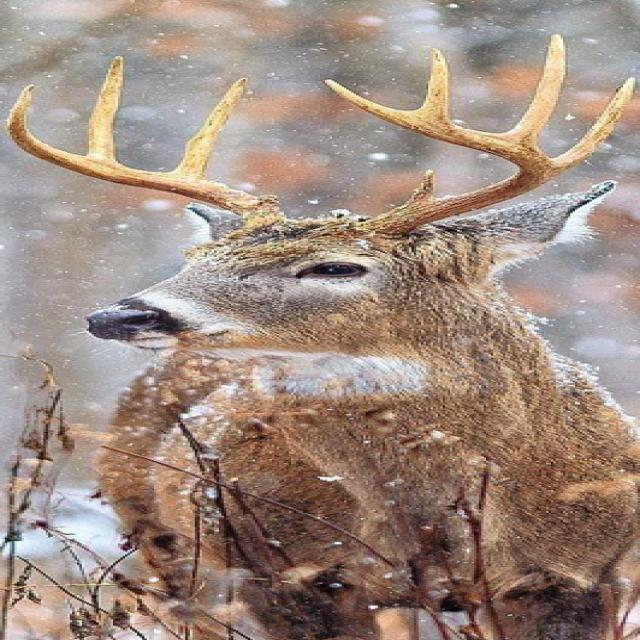L-F: (322, 76, 552, 235)
L-G1: (402, 169, 436, 204)
L-G2: (548, 75, 637, 180)
L-G3: (495, 29, 569, 149)
L-G4: (409, 44, 450, 121)
R-F: (4, 82, 290, 226)
R-G1: (164, 75, 250, 178)
R-G2: (83, 53, 125, 164)
